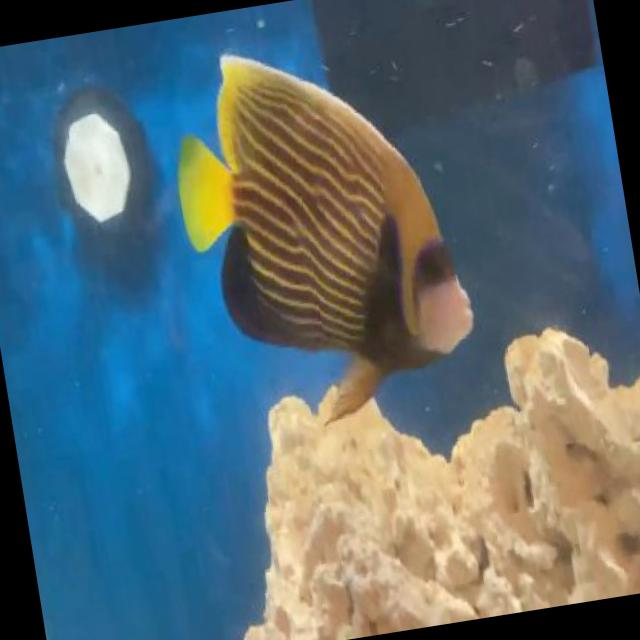AngelFish: (161, 6, 490, 444)
